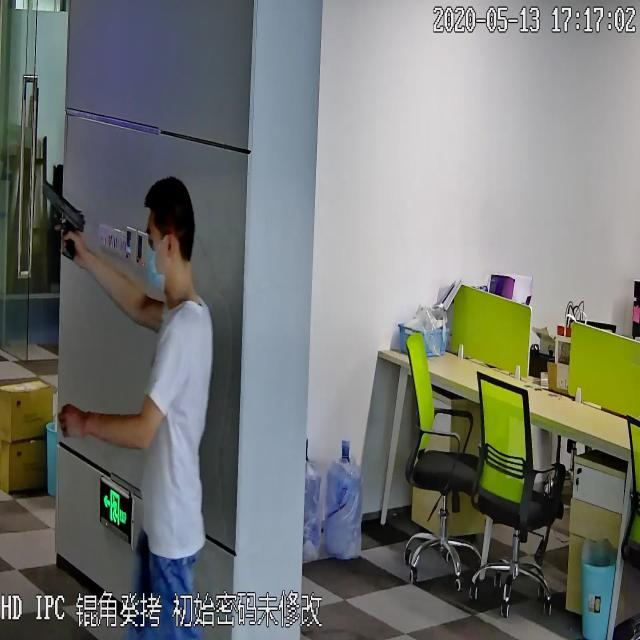gun: (39, 170, 85, 264)
